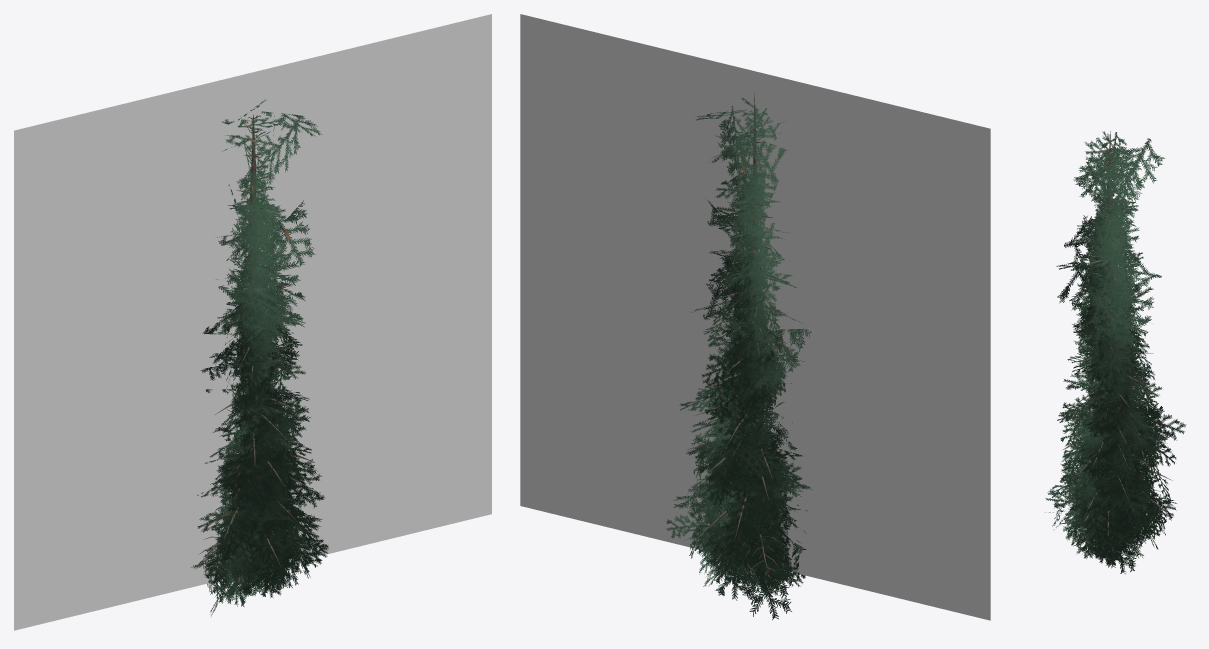
File: epicea_vieux_a.fbx
3 renders of one model, left to right at view 1: azimuth 30°, elevation 25°; view 2: azimuth 150°, elevation 25°; view 3: azimuth 270°, elevation 25°, orthographic. The views are drawn at different scales.
Visible parts, largest first — view 1: epicea_vieux_a_LOD3, epicea_vieux_a_LOD1, epicea_vieux_a_LOD2; view 2: epicea_vieux_a_LOD3, epicea_vieux_a_LOD1, epicea_vieux_a_LOD2; view 3: epicea_vieux_a_LOD1, epicea_vieux_a_LOD2.
Boxes of the visible parts, box(x1,y1,x2,y2) form: epicea_vieux_a_LOD3: box(14, 14, 491, 630); epicea_vieux_a_LOD1: box(195, 99, 328, 599); epicea_vieux_a_LOD2: box(191, 111, 322, 616); epicea_vieux_a_LOD3: box(520, 14, 990, 620); epicea_vieux_a_LOD1: box(666, 97, 808, 597); epicea_vieux_a_LOD2: box(673, 93, 811, 620); epicea_vieux_a_LOD1: box(1052, 131, 1186, 565); epicea_vieux_a_LOD2: box(1045, 131, 1171, 574).
Size of what is drawn, in the model's own units: 32.32 by 35.18 by 12.16.
